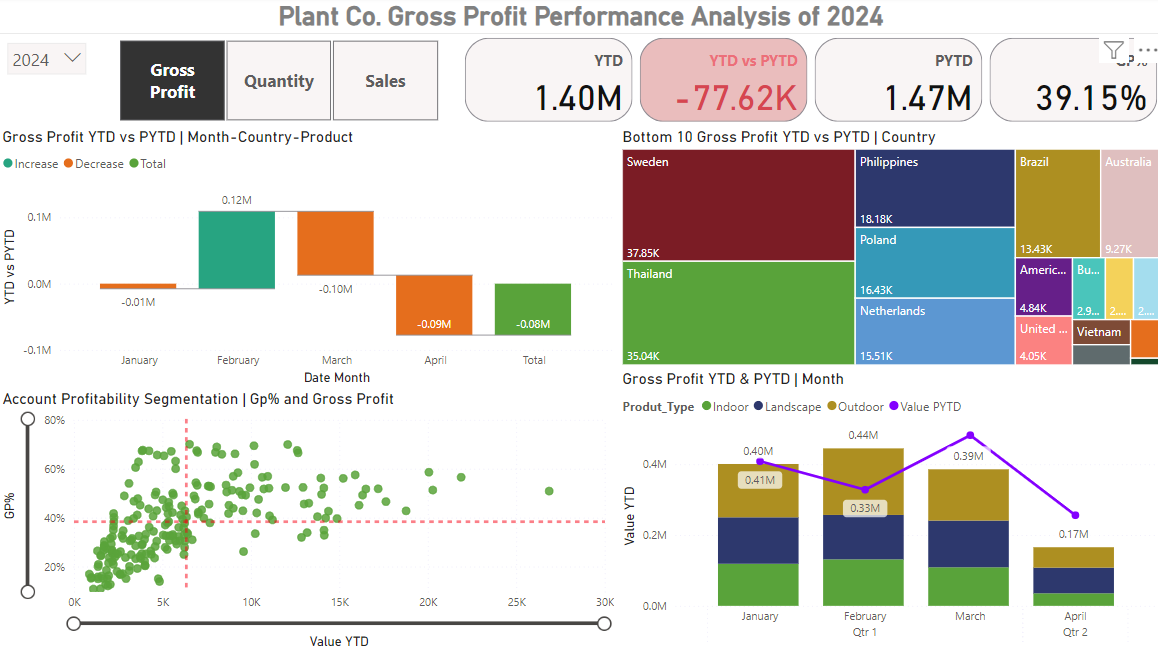

This screenshot's page, from the dashboard's own definition file:
{"tool":"powerbi","page":{"name":"Page 1","canvas":[1280,720],"ordinal":0},"visuals":[{"type":"cardVisual","fields":{"Data":["_Measures.S_YTD","_Measures.YTD vs PYTD","_Measures.S_PYTD","_Measures.GP%"]},"box":[507.7,41.2,772.6,102.9],"z":0},{"type":"slicer","fields":{"Values":["Slc_Values.Values"]},"box":[107,41.2,400.7,102.9],"z":1000},{"type":"slicer","fields":{"Values":["Dim_Date.Date.Variation.Date Hierarchy.Year"]},"box":[0,41.2,107,52.1],"z":2000},{"type":"treemap","fields":{"Values":["_Measures.YTD vs PYTD"],"Group":["Dim_Account.country"]},"box":[680.6,144.1,599.7,266.2],"z":3000},{"type":"waterfallChart","fields":{"Y":["_Measures.YTD vs PYTD"],"Category":["Dim_Date.Date.Variation.Date Hierarchy.Month","Dim_Account.country","Dim_Product.Produt_Type","Dim_Product.Product_Name"]},"box":[0,144.1,680.6,288.2],"z":4000},{"type":"lineStackedColumnComboChart","fields":{"Y":["_Measures.S_YTD"],"Y2":["_Measures.S_PYTD"],"Series":["Dim_Product.Produt_Type"],"Category":["Dim_Date.Date.Variation.Date Hierarchy.Quarter","Dim_Date.Date.Variation.Date Hierarchy.Month"]},"box":[680.6,410.3,599.7,310.1],"z":5000},{"type":"scatterChart","fields":{"Y":["_Measures.GP%"],"X":["_Measures.S_YTD"],"Category":["Dim_Account.Account"]},"box":[0,432.2,680.6,288.2],"z":6001},{"type":"card","fields":{"Values":["_Measures._Report title"]},"box":[0,0,1280.3,41.2],"z":6002}]}

Visuals, with their boxes in screenshot pixels (x1, y1, x2, y2), scaled from the page's 1280x720 canvas onto the 1158x650 screenshot:
cardVisual - _Measures.S_YTD x _Measures.YTD vs PYTD: x1=459 y1=37 x2=1157 y2=130
slicer - Slc_Values.Values: x1=97 y1=37 x2=459 y2=130
slicer - Dim_Date.Date.Variation.Date Hierarchy.Year: x1=0 y1=37 x2=97 y2=84
treemap - _Measures.YTD vs PYTD x Dim_Account.country: x1=616 y1=130 x2=1157 y2=370
waterfallChart - _Measures.YTD vs PYTD x Dim_Date.Date.Variation.Date Hierarchy.Month: x1=0 y1=130 x2=616 y2=390
lineStackedColumnComboChart - _Measures.S_YTD x _Measures.S_PYTD: x1=616 y1=370 x2=1157 y2=649
scatterChart - _Measures.GP% x _Measures.S_YTD: x1=0 y1=390 x2=616 y2=649
card - _Measures._Report title: x1=0 y1=0 x2=1157 y2=37
